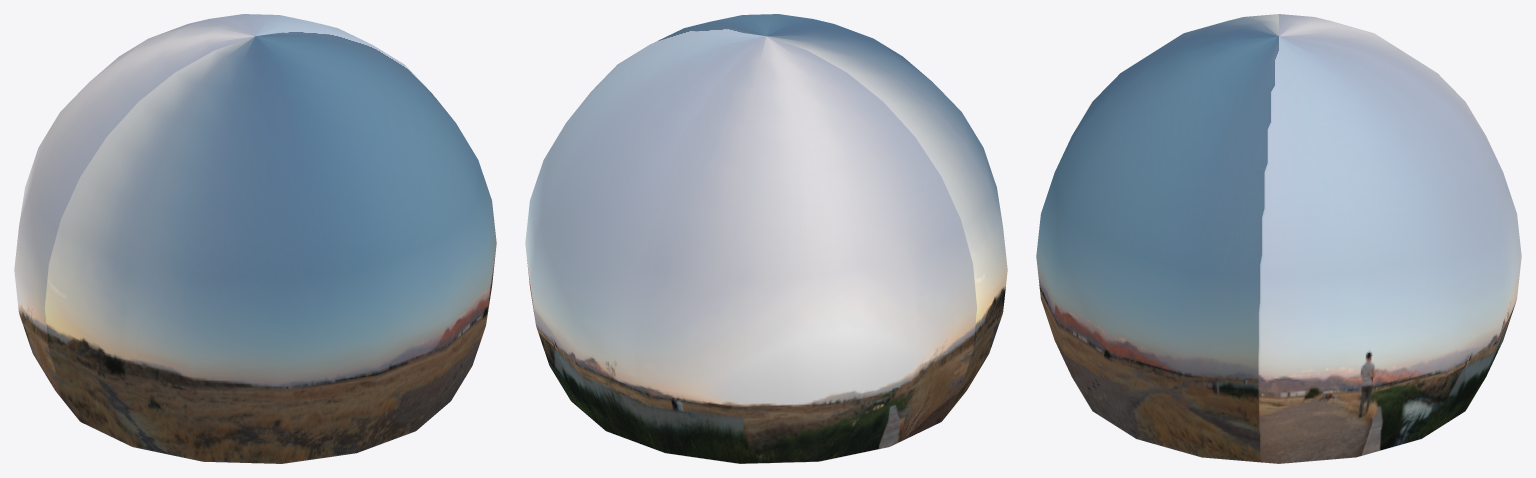
3 views of the same model, side by side, from view 1: azimuth 30°, elevation 25°; view 2: azimuth 150°, elevation 25°; view 3: azimuth 270°, elevation 25° (orthographic).
Visible parts, largest first — view 1: Background_2; view 2: Background_2; view 3: Background_2.
Part boxes in pixels (x1,y1,x2,y2): Background_2: (14,14,496,463); Background_2: (525,14,1007,463); Background_2: (1036,14,1521,463).
Size of the model in its own units: 5.18 by 4.03 by 5.18.
Materials: 4 (4 with a texture image).
